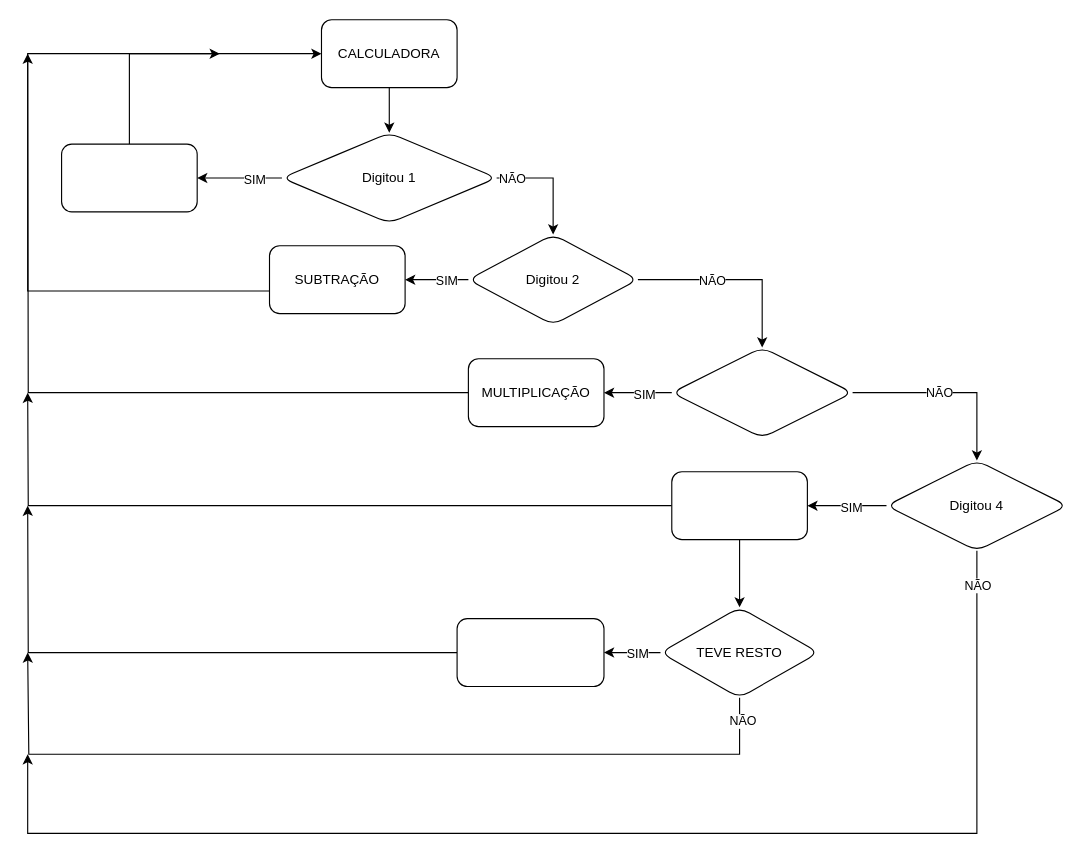
The diagram is 1087 pixels wide and 862 high, and some of its shapes have lost their labels. The shapes that lost their labels are listed below. From the top down, each one's box as (x1, y1, x2, y2) in pixels, then its label:
(60, 143, 197, 212): SOMA
(671, 346, 853, 438): Digitou 3
(671, 471, 807, 540): DIVISÃO
(456, 618, 604, 686): RESTO DA DIVISÃO
